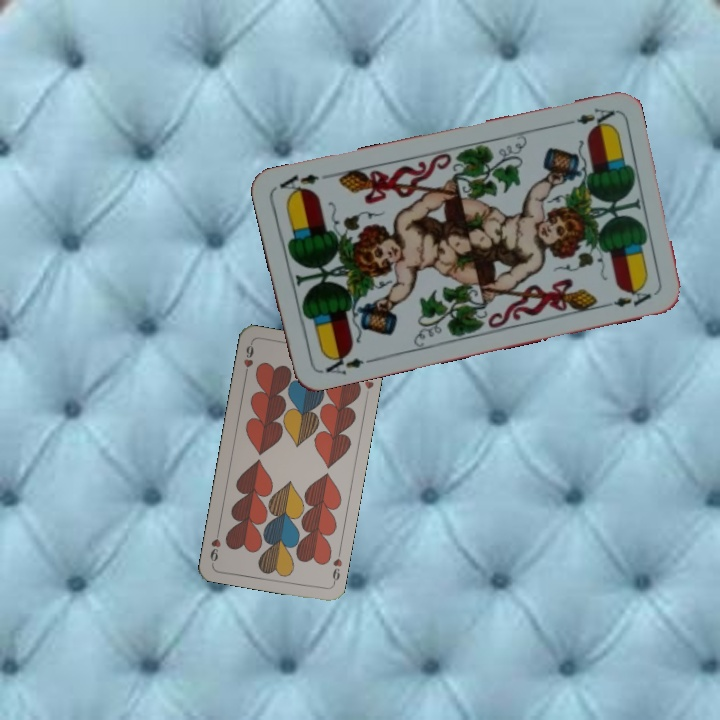EA: (558, 103, 617, 131), (321, 347, 375, 377)
H9: (239, 339, 256, 380), (328, 547, 345, 587)
